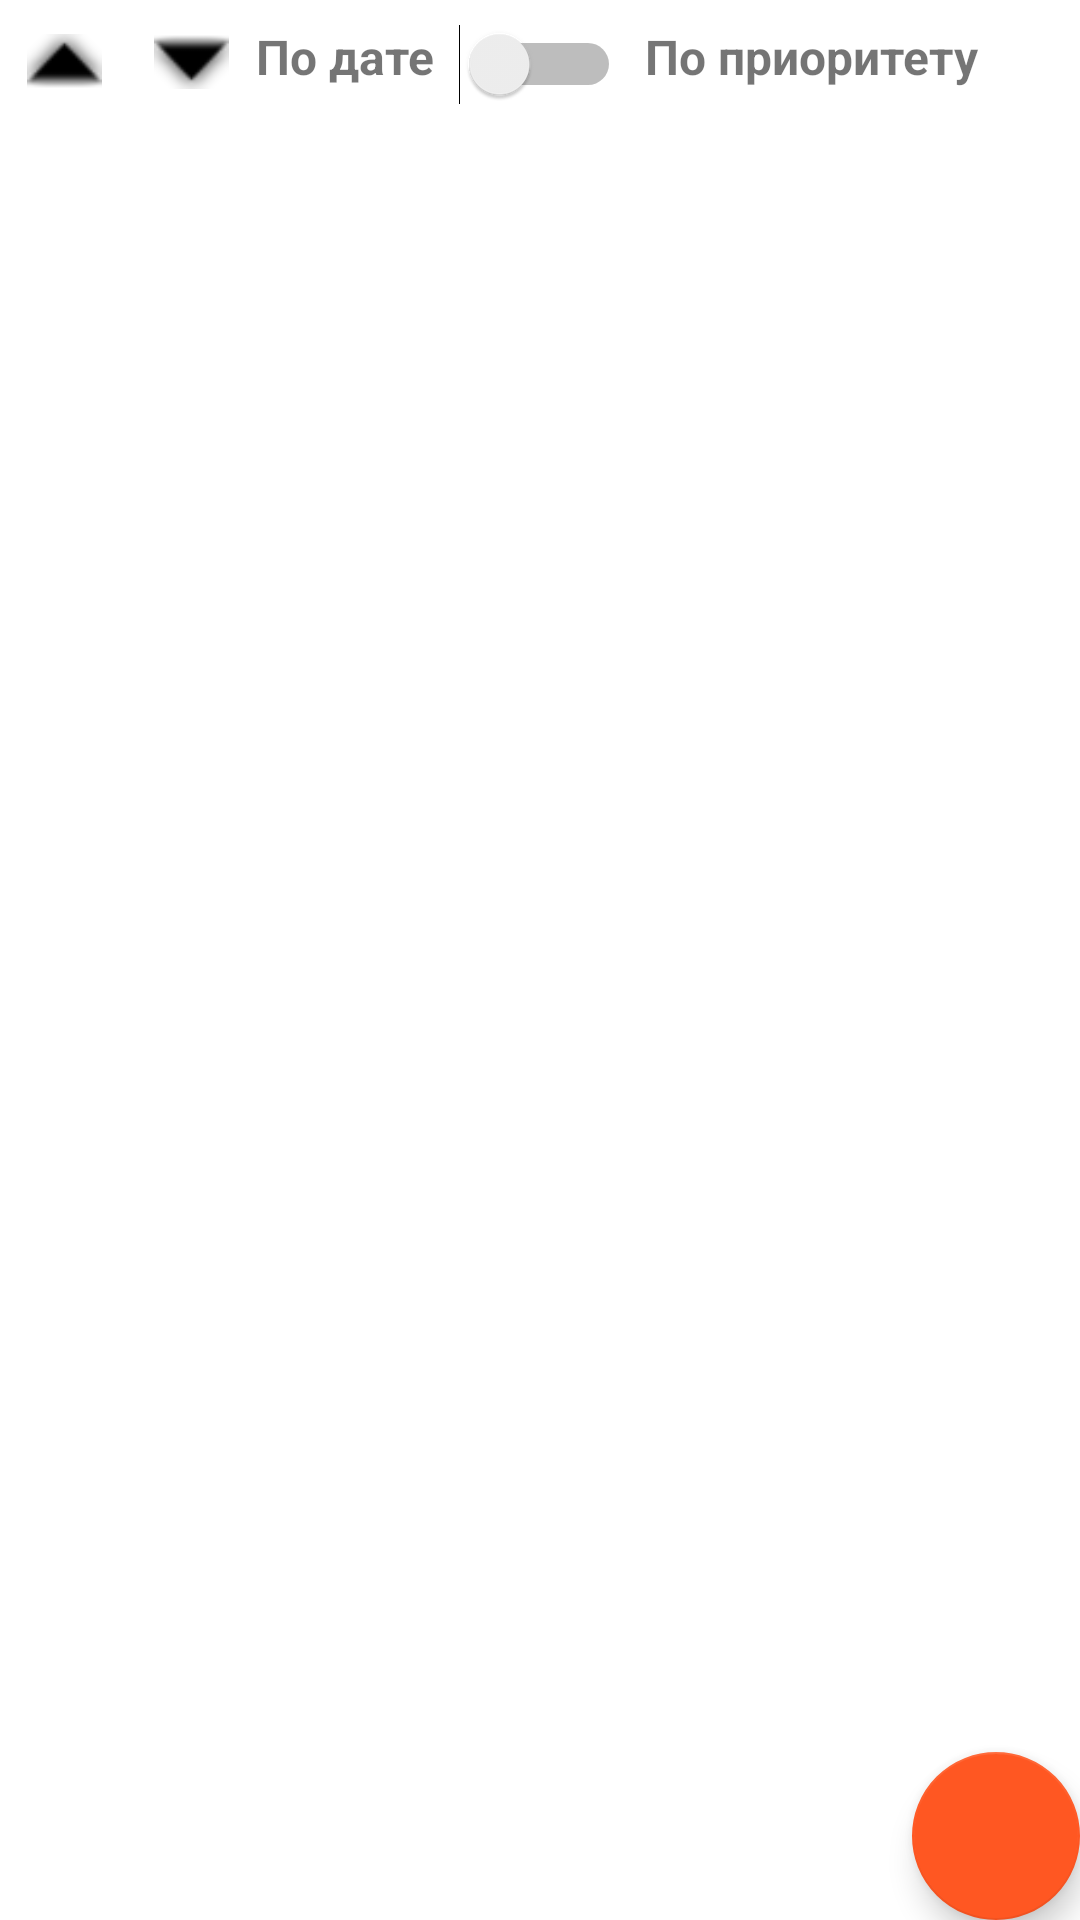

Where icons sit on this 1080 × 1920 app screen, as (x1, y1, x2, y2):
arrow down float: (154, 37, 229, 88)
arrow up float: (27, 35, 102, 86)
